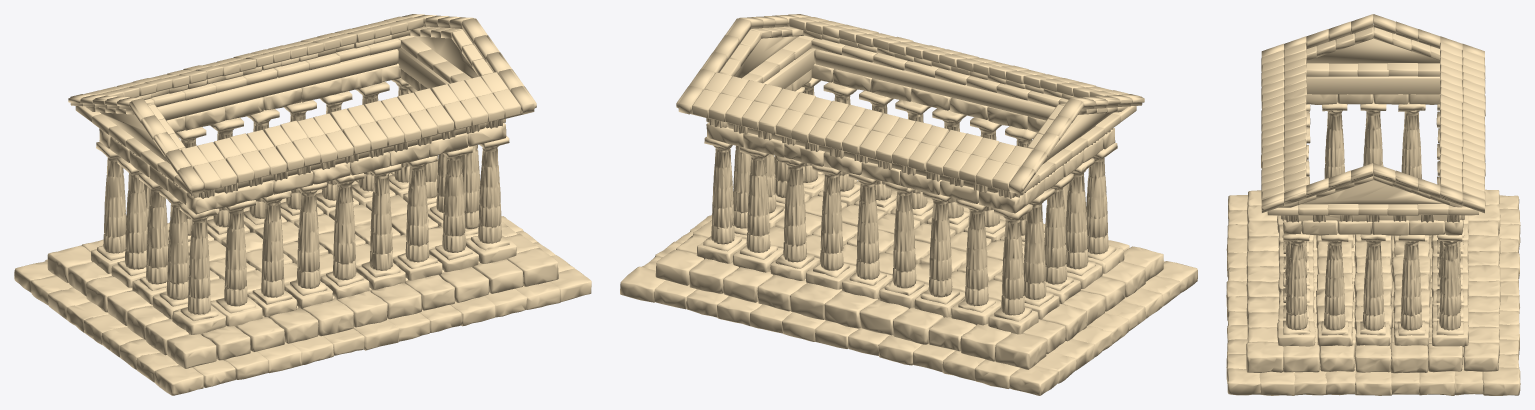
The model's file is hefesteion.glb.
3 renders of one model, left to right at view 1: azimuth 30°, elevation 25°; view 2: azimuth 150°, elevation 25°; view 3: azimuth 270°, elevation 25°, orthographic. The views are drawn at different scales.
Parts seen in each view (by area): view 1: Object_4; view 2: Object_4; view 3: Object_4.
Boxes of the visible parts, x1=… form: Object_4: x1=14, y1=14, x2=591, y2=395; Object_4: x1=620, y1=14, x2=1197, y2=395; Object_4: x1=1226, y1=14, x2=1520, y2=395.
Size of the model in its own units: 19.11 by 9.94 by 12.53.
